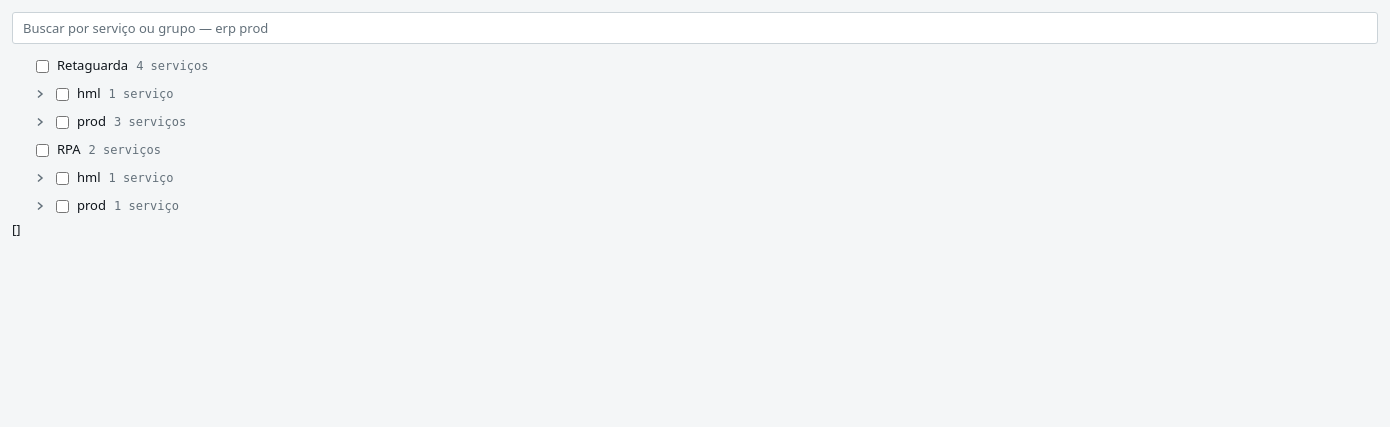
Test: MonitorTree › marcar o ambiente marca todos os serviços dele
Click the checkbox labelled "prod 3 serviços" at (62, 122), box x1=56 y1=116 x2=69 y2=128
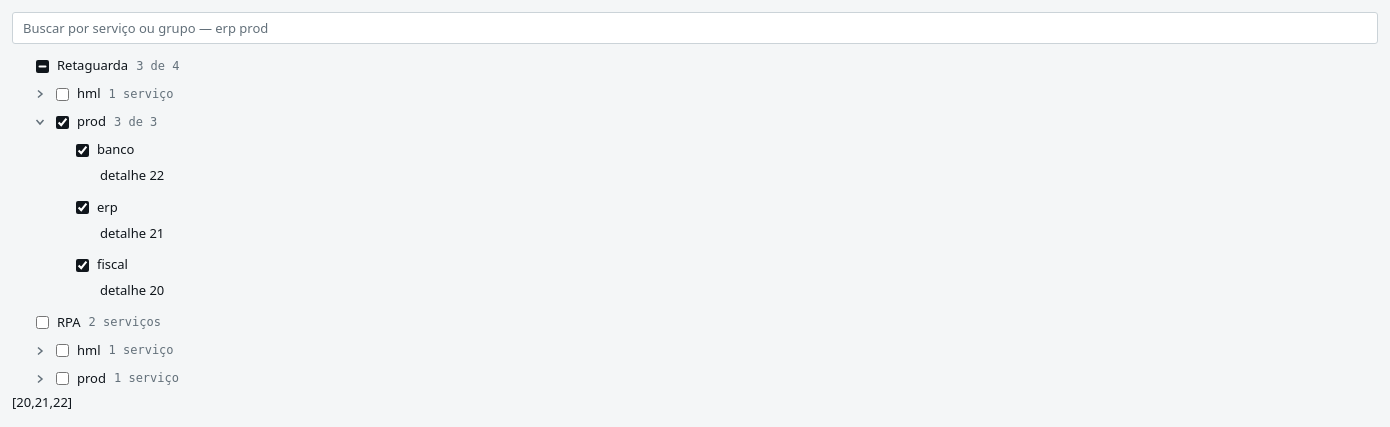
Expected: the text "[20,21,22]" is shown, x1=12 y1=392 x2=72 y2=410
